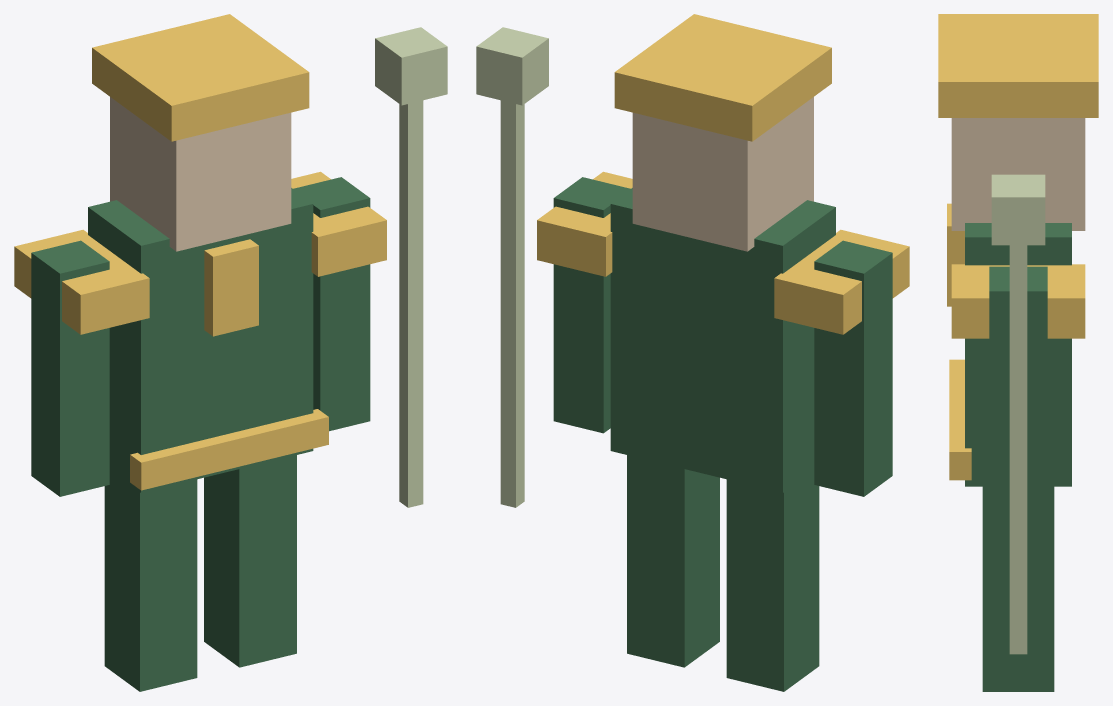
The model's file is 12_ren_holloway_tamer_under_listening.glb.
3 views of the same model, side by side, from view 1: azimuth 30°, elevation 25°; view 2: azimuth 150°, elevation 25°; view 3: azimuth 270°, elevation 25° (orthographic).
Parts seen in each view (by area): view 1: Ren Holloway, Tamer under Listening; view 2: Ren Holloway, Tamer under Listening; view 3: Ren Holloway, Tamer under Listening.
Part boxes in pixels (x1=…): Ren Holloway, Tamer under Listening: x1=14, y1=14, x2=447, y2=691; Ren Holloway, Tamer under Listening: x1=476, y1=14, x2=909, y2=691; Ren Holloway, Tamer under Listening: x1=938, y1=14, x2=1098, y2=691.
Bounding box in the file's own units: 1.1 × 1.63 × 0.391.
